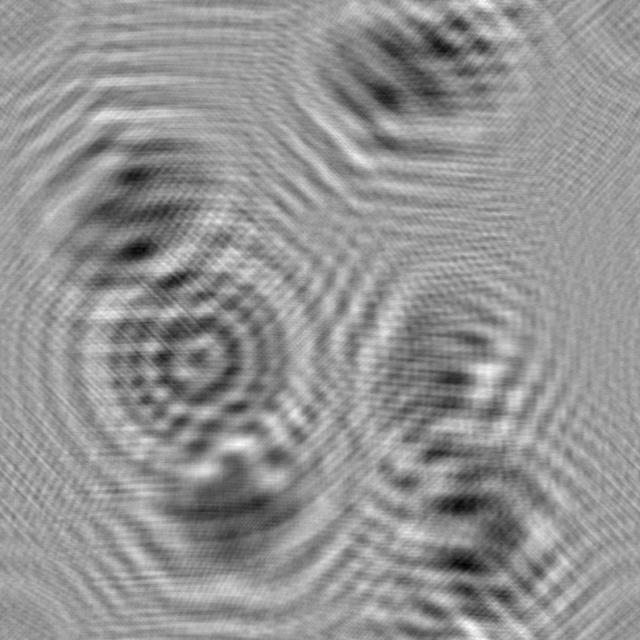K: (99, 391, 360, 619)
L: (311, 232, 551, 469)
M: (344, 398, 602, 640)
N: (0, 83, 266, 301), (296, 0, 536, 200)
O: (71, 237, 323, 476)
